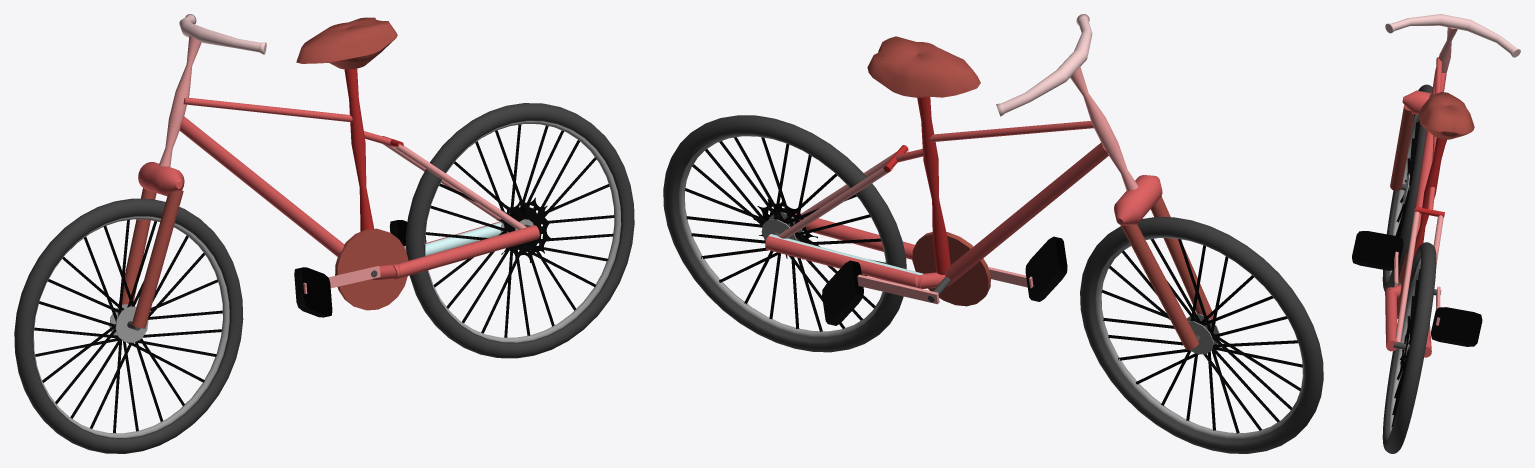
File: bike.glb
3 renders of one model, left to right at view 1: azimuth 30°, elevation 25°; view 2: azimuth 150°, elevation 25°; view 3: azimuth 270°, elevation 25°, orthographic. The views are drawn at different scales.
Parts seen in each view (by area): view 1: Torus001_0; view 2: Torus001_0; view 3: Torus001_0.
Part boxes in pixels (x1,y1,x2,y2): Torus001_0: (14,14,634,453); Torus001_0: (663,14,1323,453); Torus001_0: (1352,14,1520,453).
Bounding box in the file's own units: 4.68 × 2.74 × 1.34.
